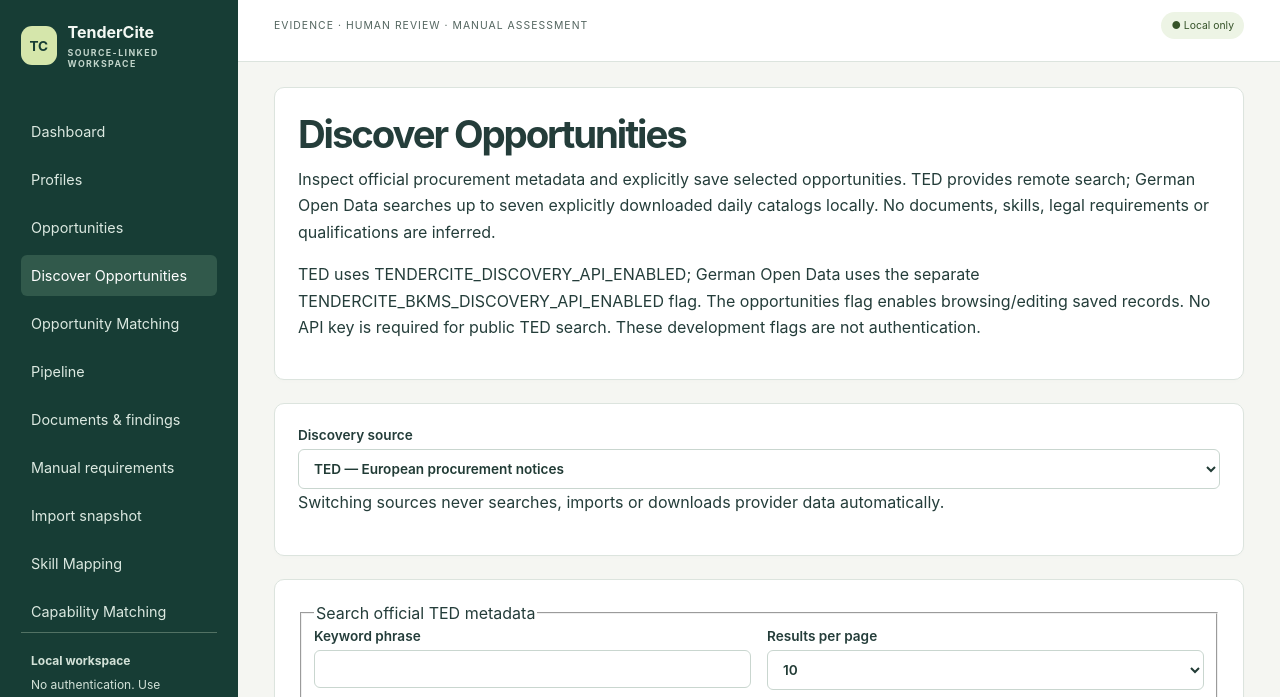
Test: missing title prevents saving
Select "German Bekanntmachungsservice — public procurement" in the dropdown labelled "Discovery source" at (759,469), box [298, 449, 1220, 489]
(page scrolled)
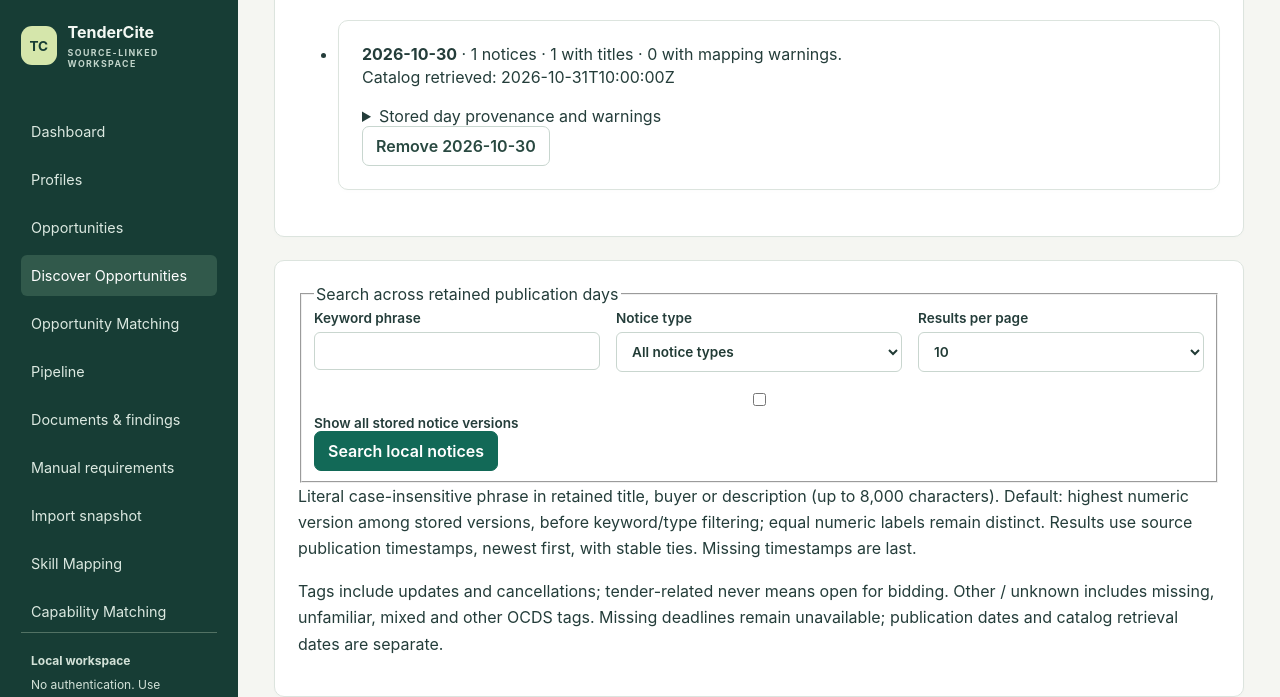
Type "Software" into the field labelled "Keyword phrase" at (457,351), box [314, 332, 600, 370]
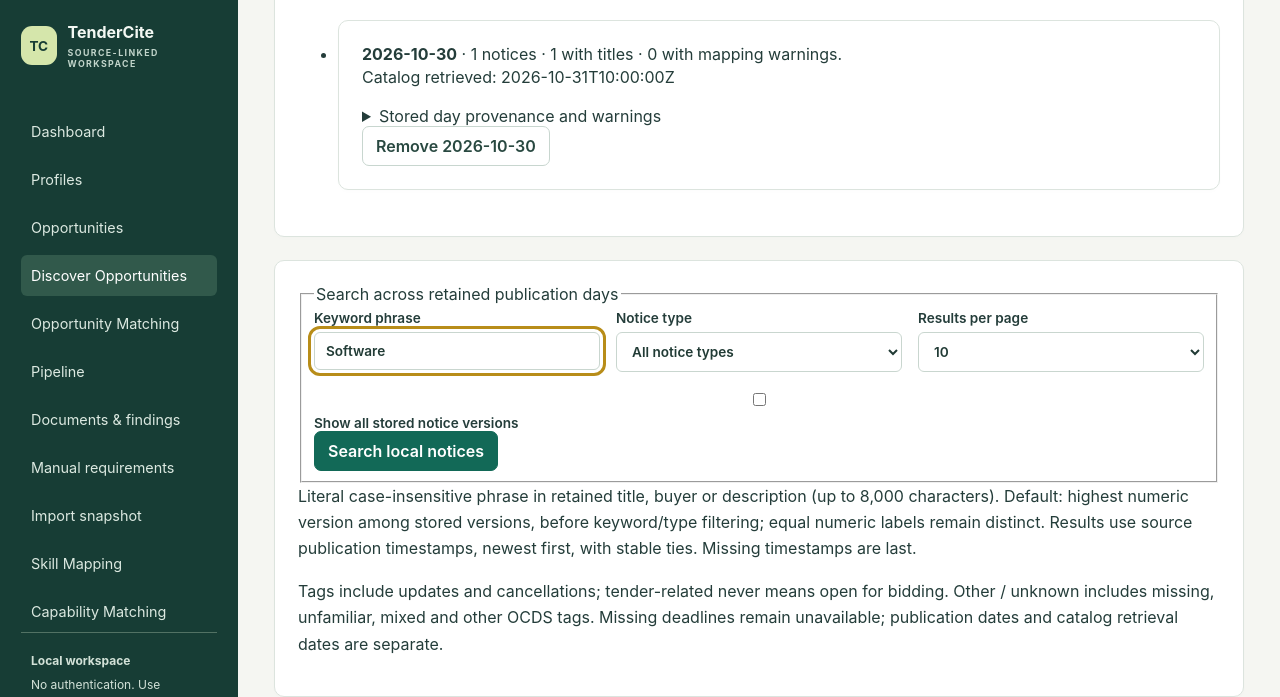
Click the button "Search local notices" at (406,451), box [314, 431, 498, 471]
(page scrolled)
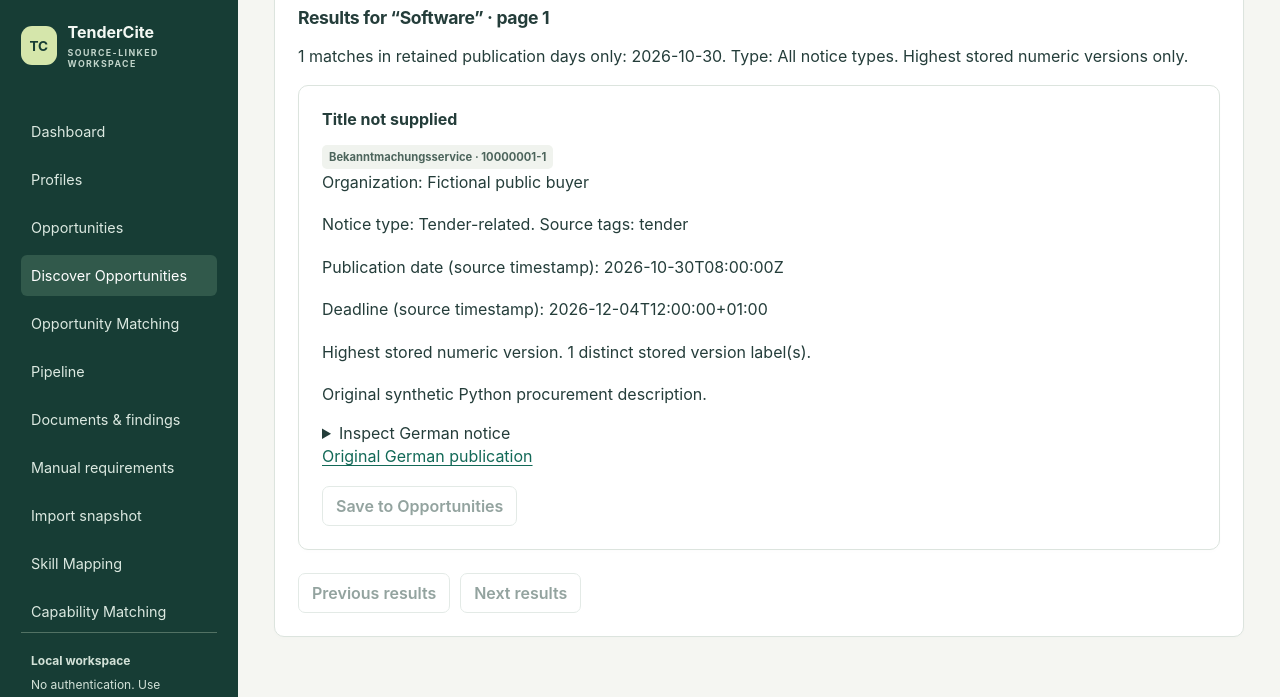
Check: the heading "Title not supplied" is shown, box [322, 109, 457, 129]
Check: the button "Save to Opportunities" is disabled, box [322, 486, 517, 526]
